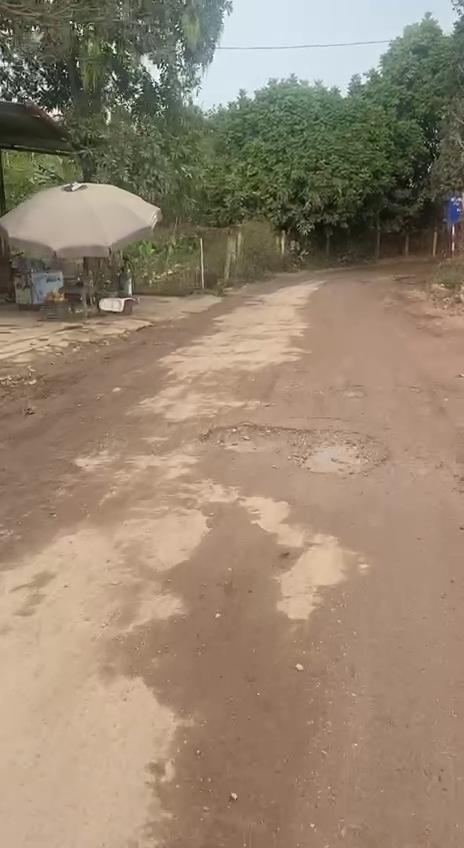pothole: (194, 422, 395, 480), (333, 384, 370, 404)
